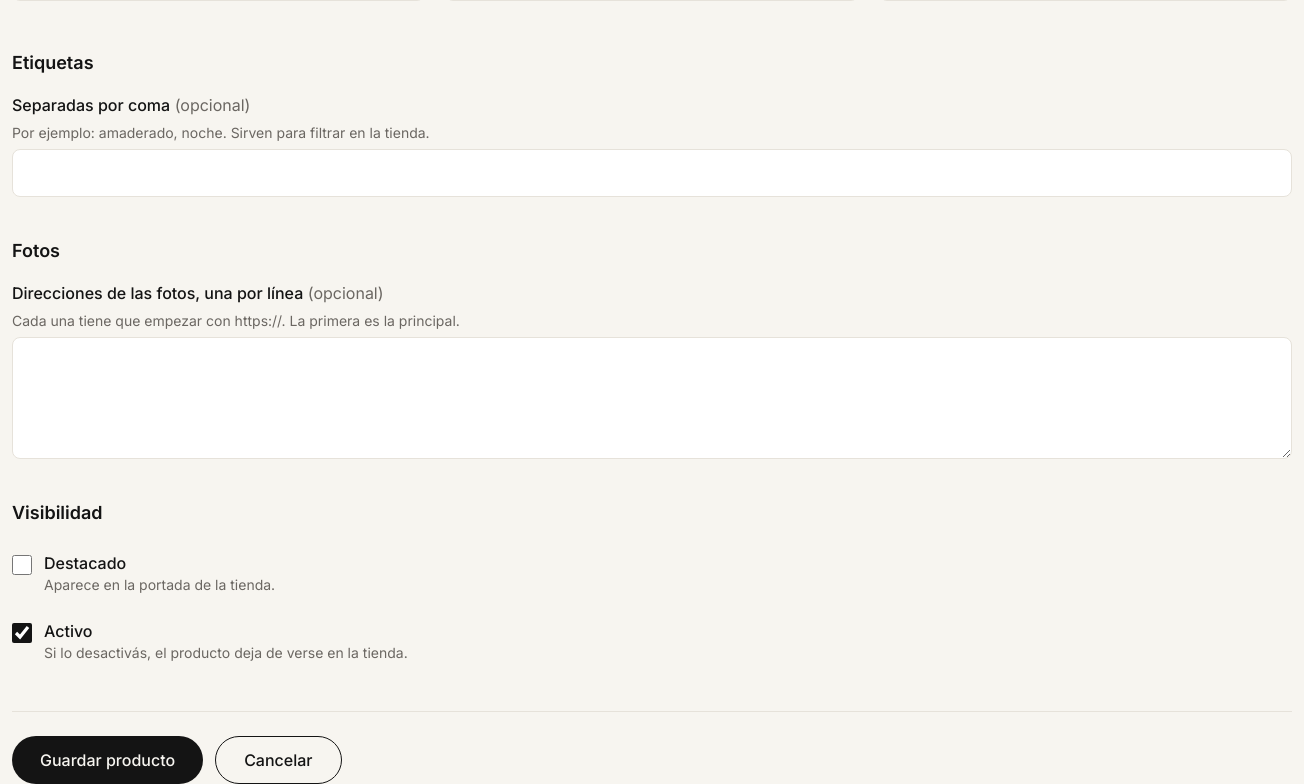
Test case: ProductForm › un error general sin campos se muestra en el resumen
(page scrolled)
Step 1. Click the button "Guardar producto" → (108, 760), box top-left (12, 736), bottom-right (203, 783)
(page scrolled)
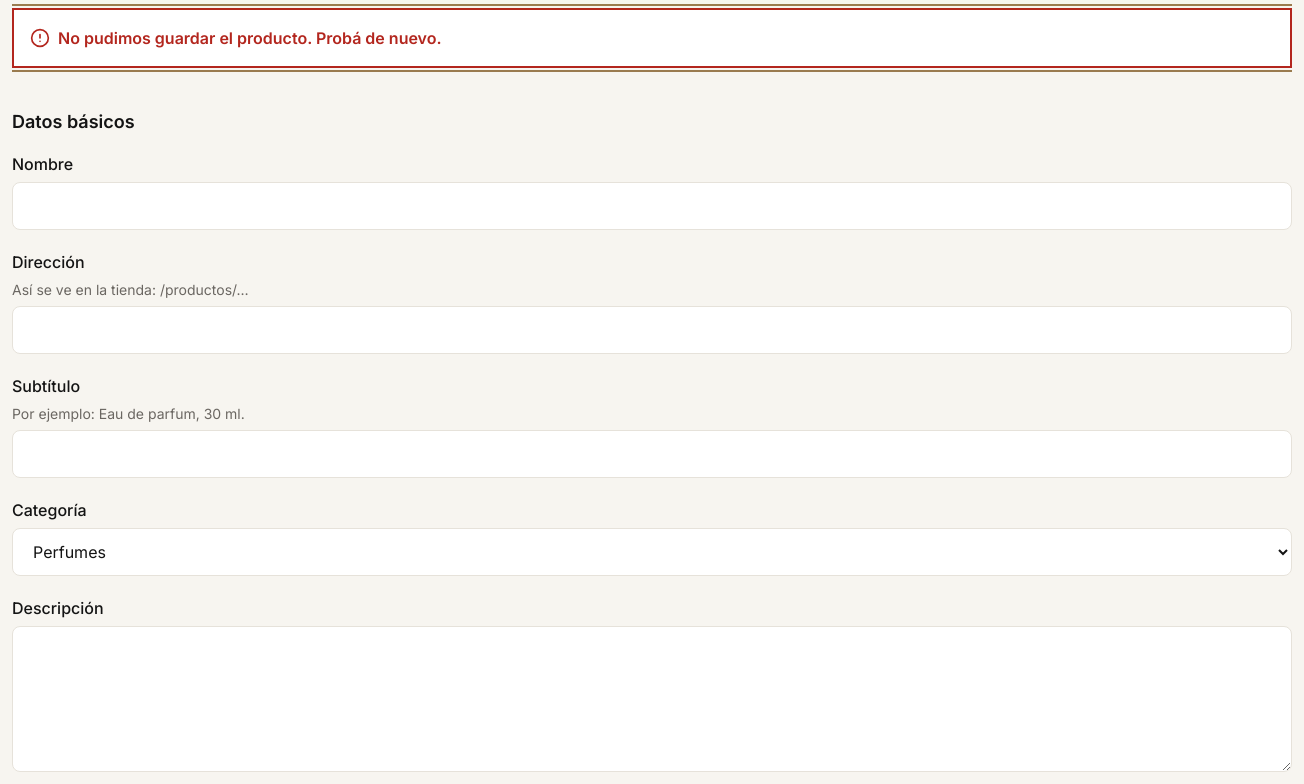
Result: the message reads "No pudimos guardar el producto. Probá de nuevo." at top-left (58, 28), bottom-right (442, 48)
